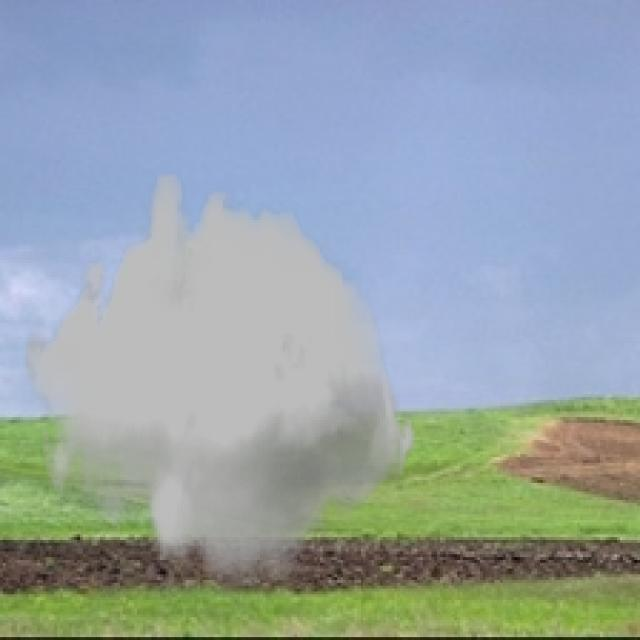smoke: (23, 174, 417, 586)
